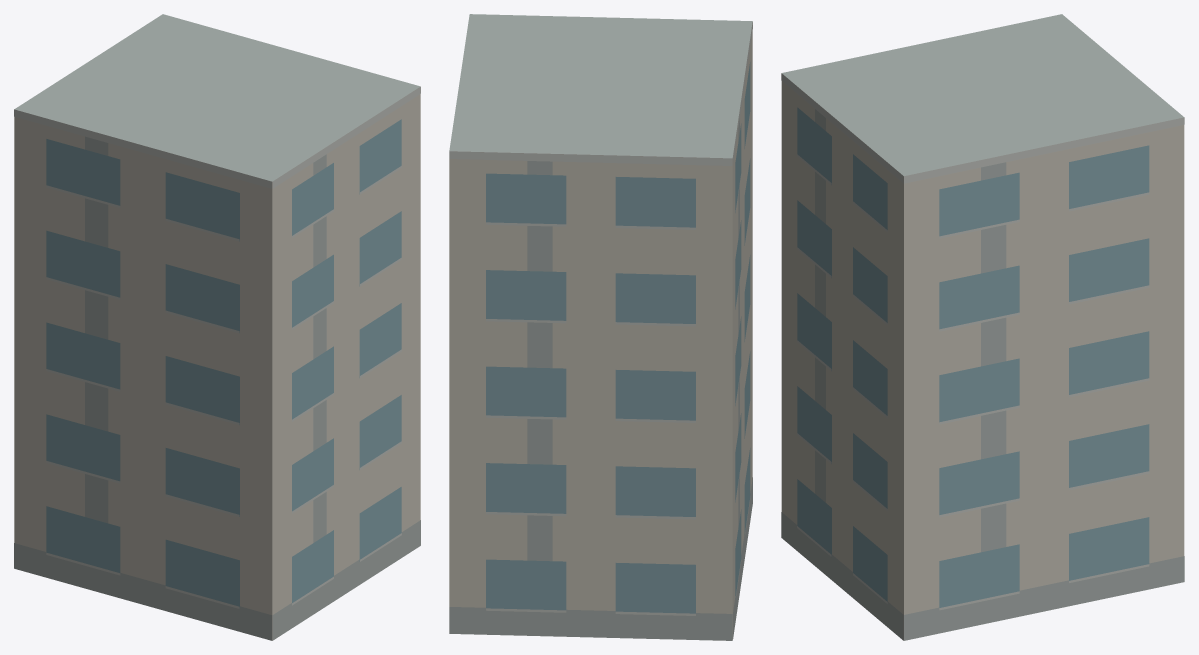
The model's file is survey-upis-32841695.glb.
3 renders of one model, left to right at view 1: azimuth 30°, elevation 25°; view 2: azimuth 150°, elevation 25°; view 3: azimuth 270°, elevation 25°, orthographic. The views are drawn at different scales.
Parts seen in each view (by area): view 1: survey-upis-32841695.tmp; view 2: survey-upis-32841695.tmp; view 3: survey-upis-32841695.tmp.
Boxes of the visible parts, x1,y1,x2,y2 form: survey-upis-32841695.tmp: (14,14,420,640); survey-upis-32841695.tmp: (449,14,752,640); survey-upis-32841695.tmp: (781,14,1184,640).
Size of the model in its own units: 11.43 by 15.25 by 12.
